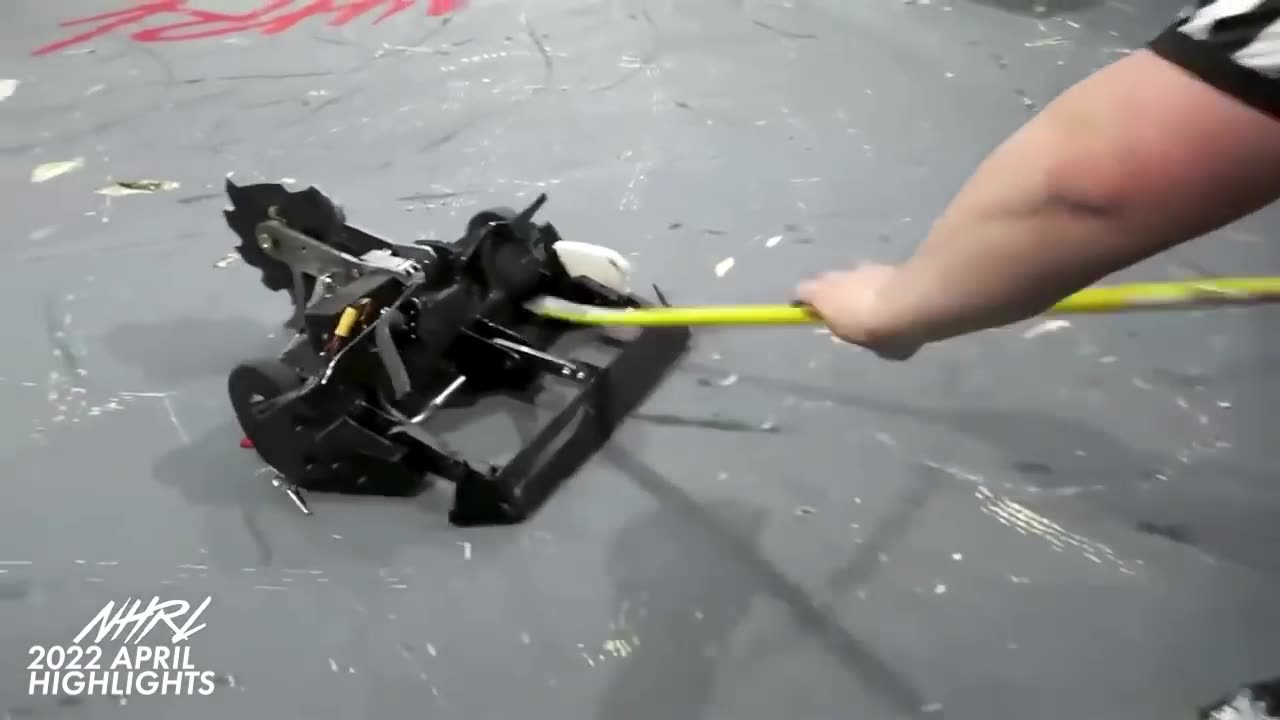combatbot: (216, 177, 693, 535)
